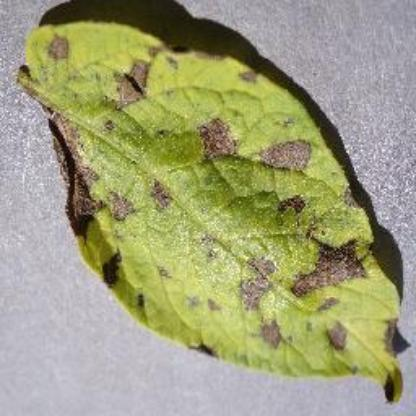Early-Blight: (14, 20, 404, 402)
